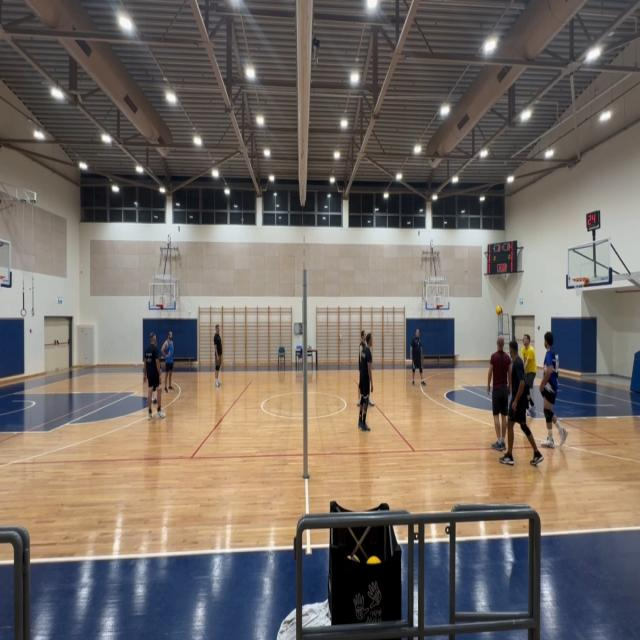volleyball: (496, 305, 502, 316)
